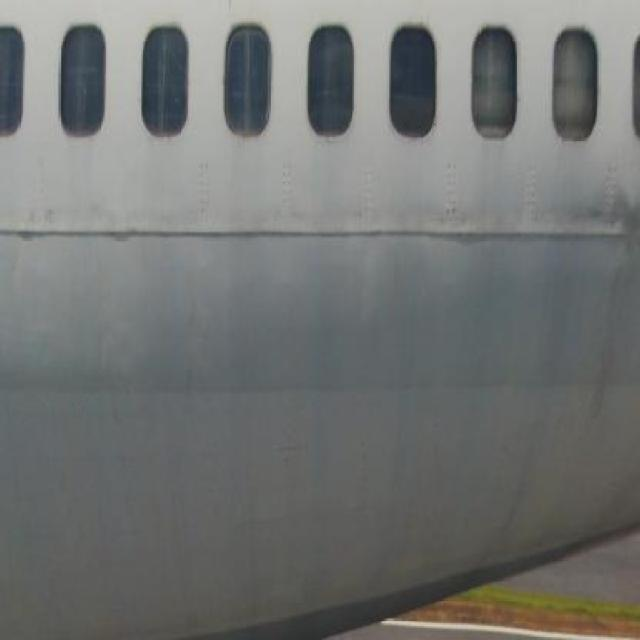Scartch: (16, 213, 520, 256), (543, 170, 640, 284)
